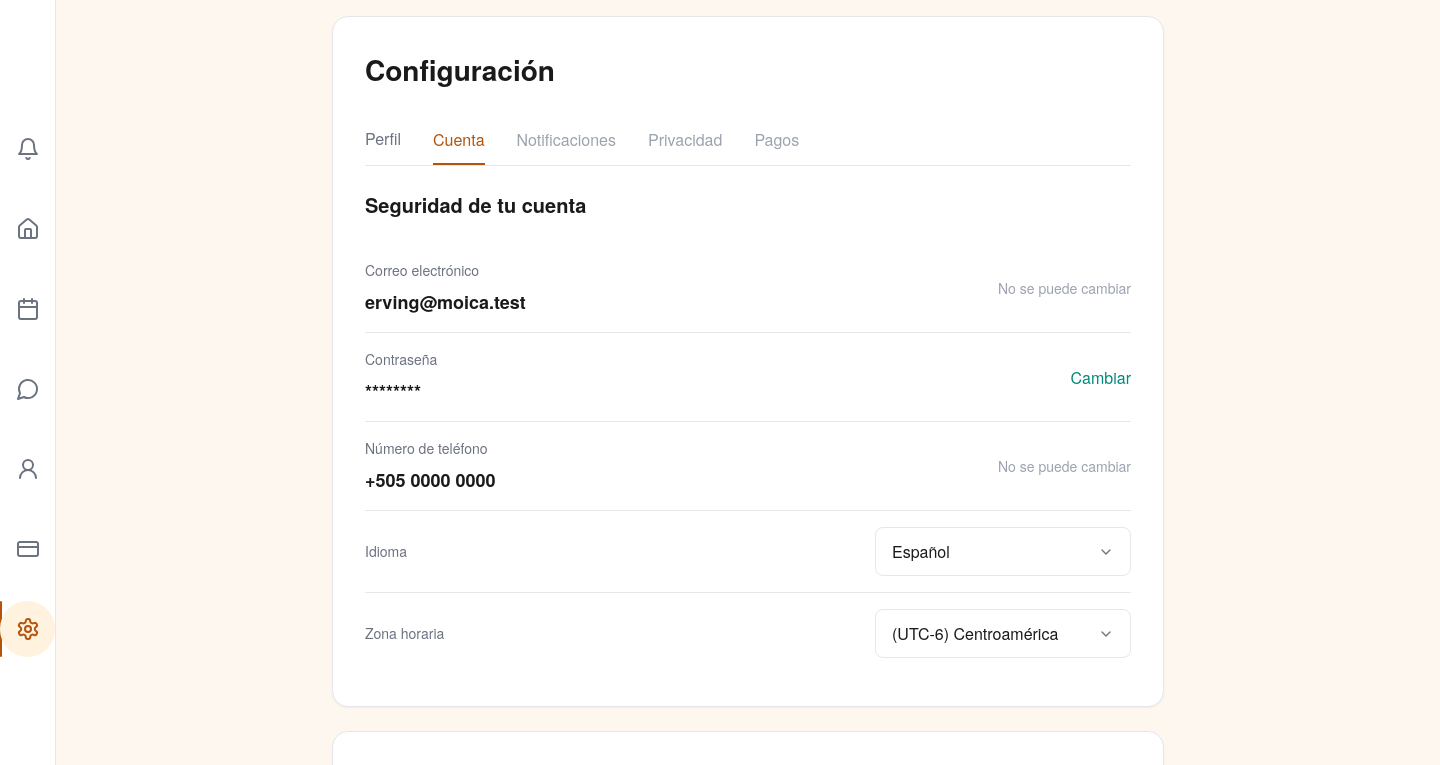
Test: seguridad de la cuenta › cambio de contraseña › exige que las dos contraseñas nuevas coincidan
Check: the heading "Seguridad de tu cuenta" is shown, box left=365, top=190, right=586, bottom=219
Click the button "Cambiar" at (1101,377), box left=1070, top=366, right=1131, bottom=388
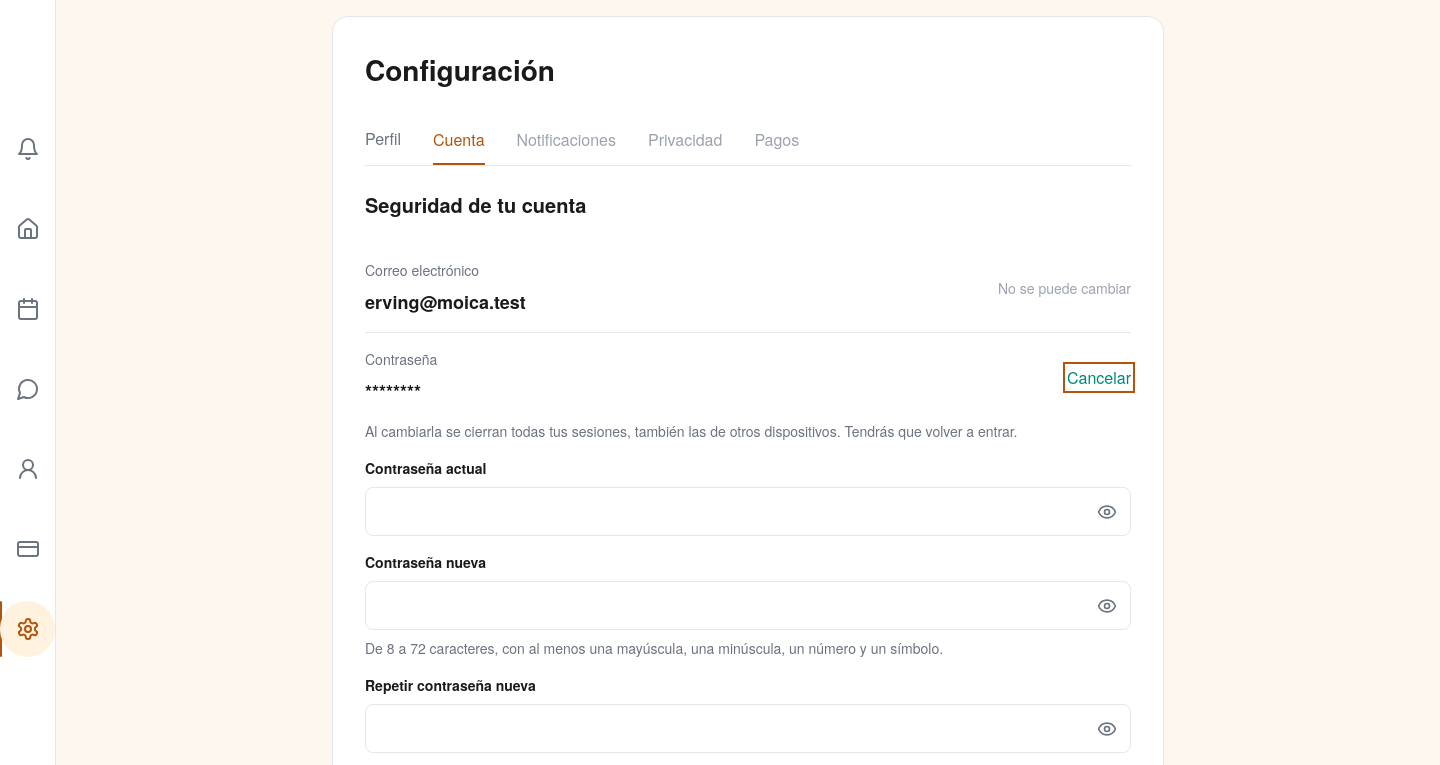
Type "Moica2026$segura" into the password field labelled "Contraseña actual" at (748,512), box left=365, top=487, right=1131, bottom=536
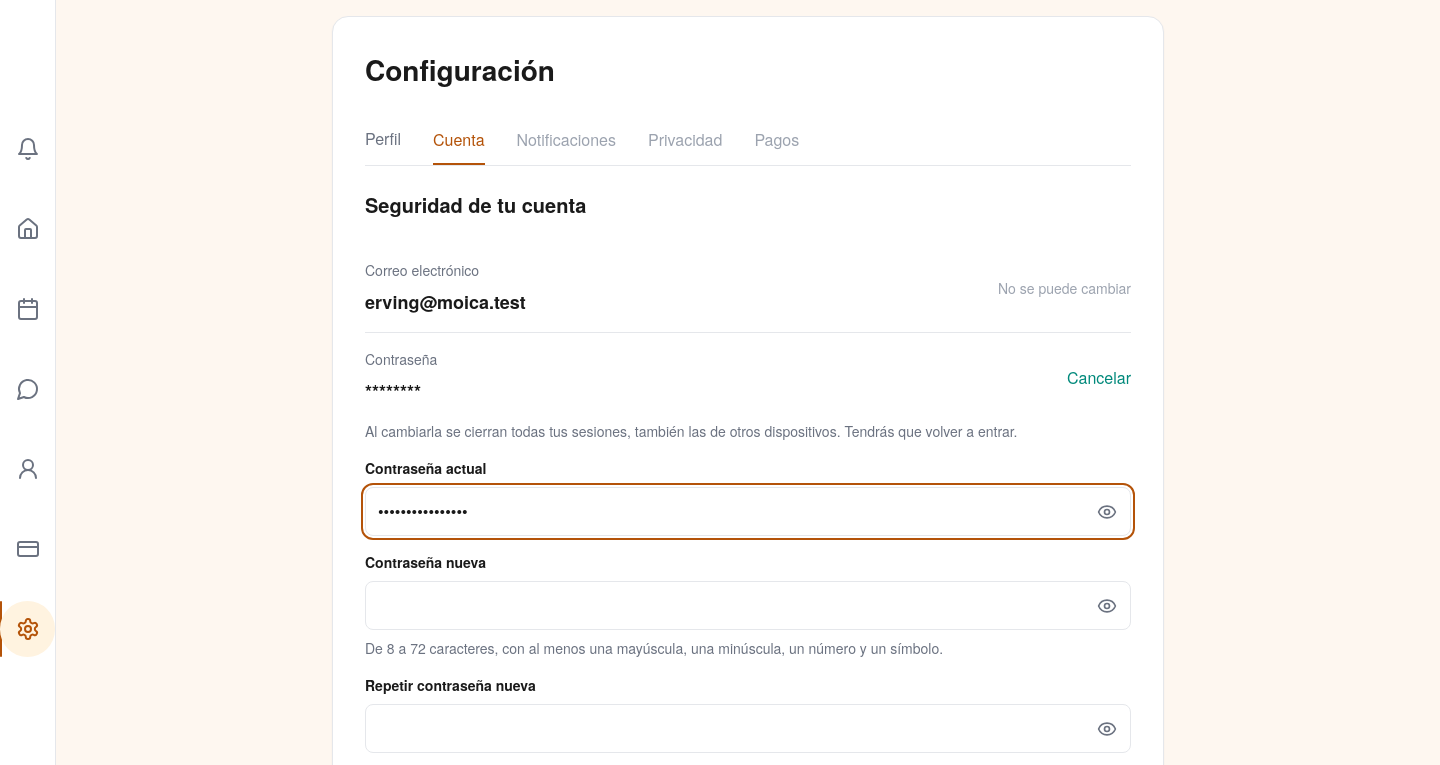
Type "Moica2026$nueva" into the password field labelled "Contraseña nueva" at (748,606), box left=365, top=581, right=1131, bottom=630
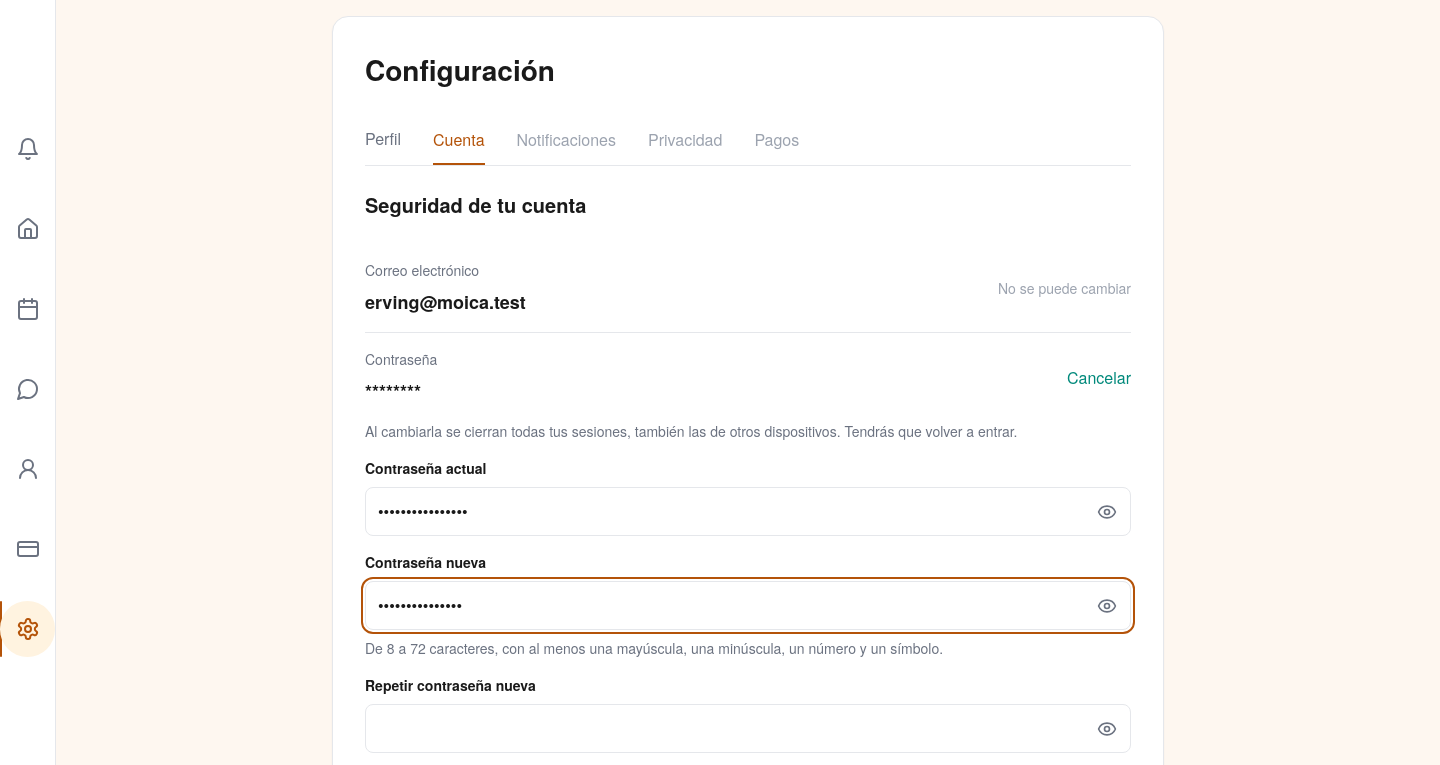
Type "Moica2026$otra" into the password field labelled "Repetir contraseña nueva" at (748,728), box left=365, top=704, right=1131, bottom=753
(page scrolled)
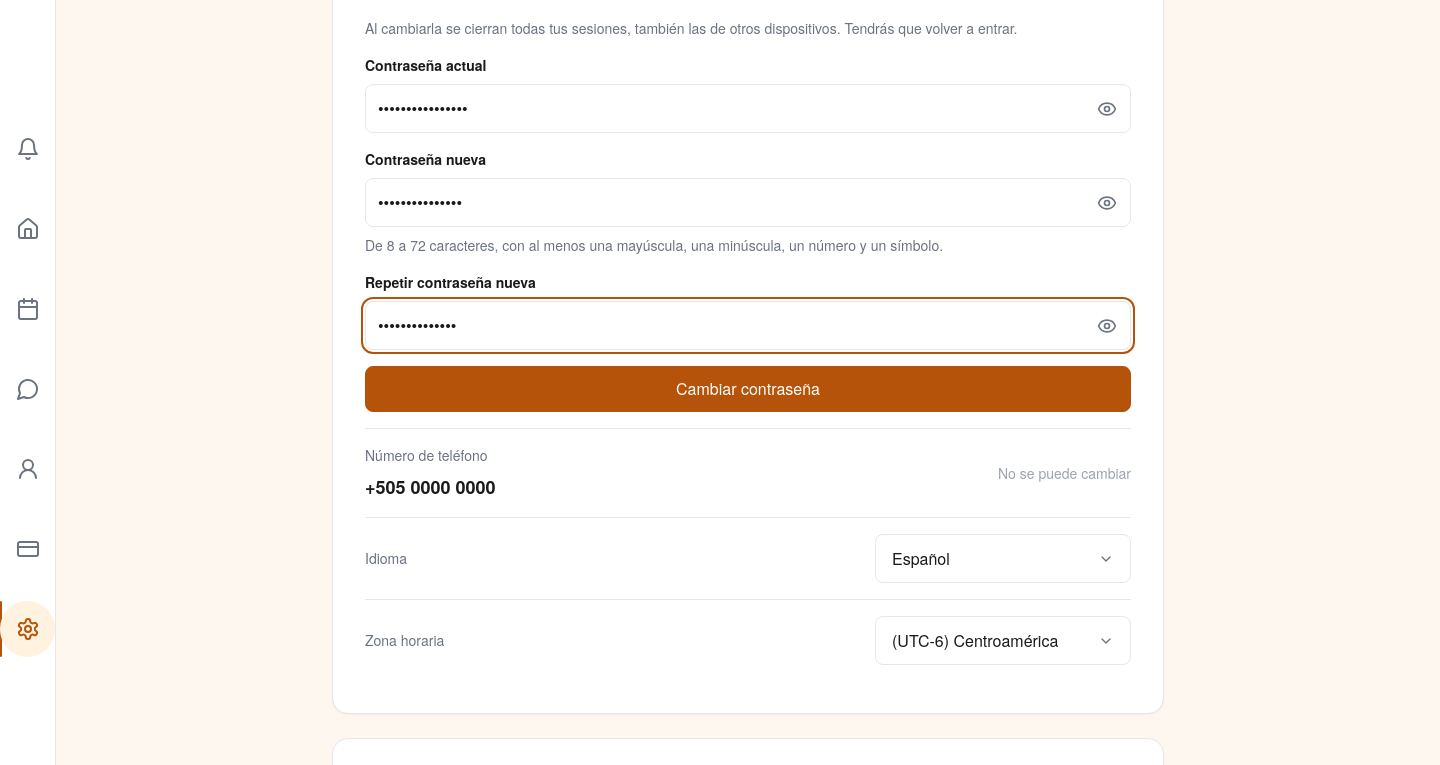
Click the button "Cambiar contraseña" at (748,389), box left=365, top=366, right=1131, bottom=412
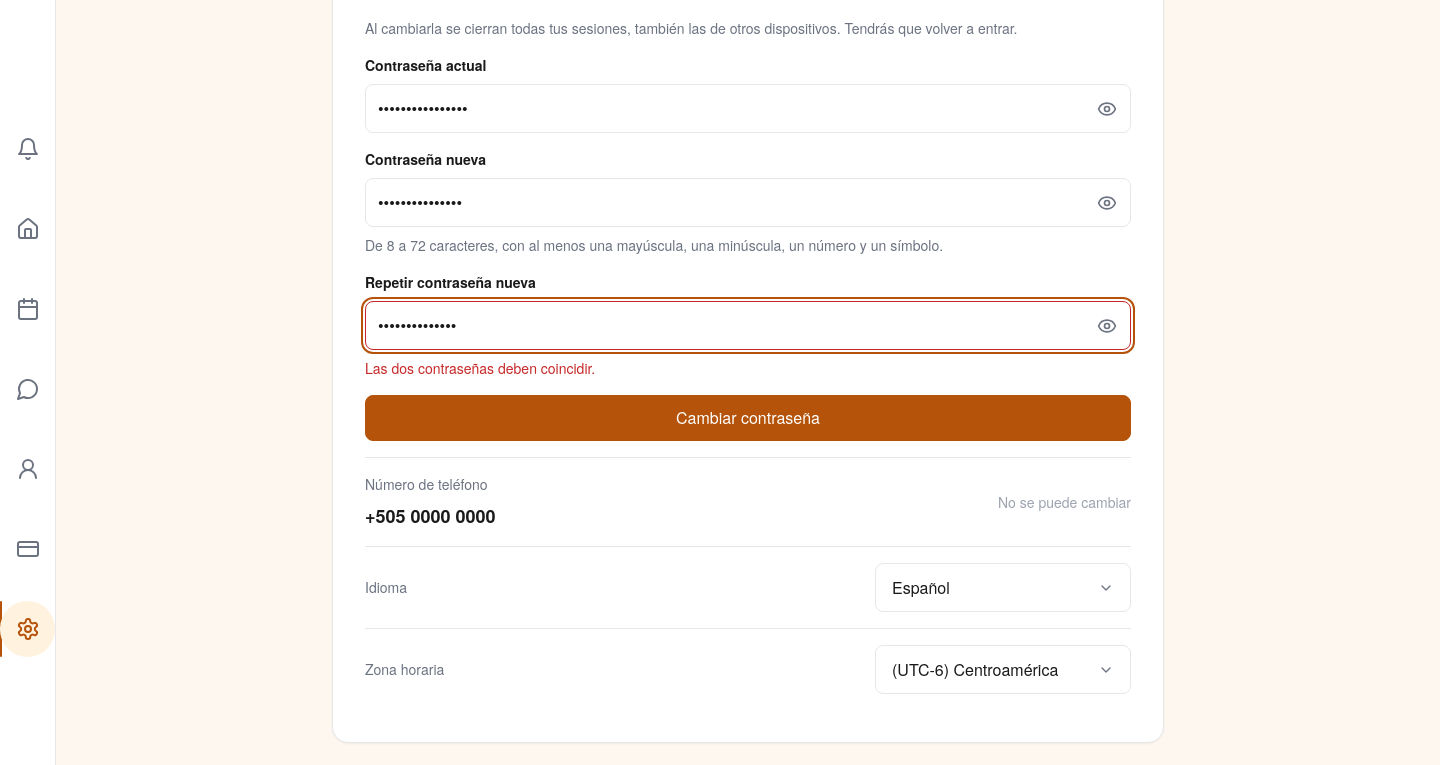
Check: the text "Las dos contraseñas deben coincidir." is shown, box left=365, top=358, right=595, bottom=378
